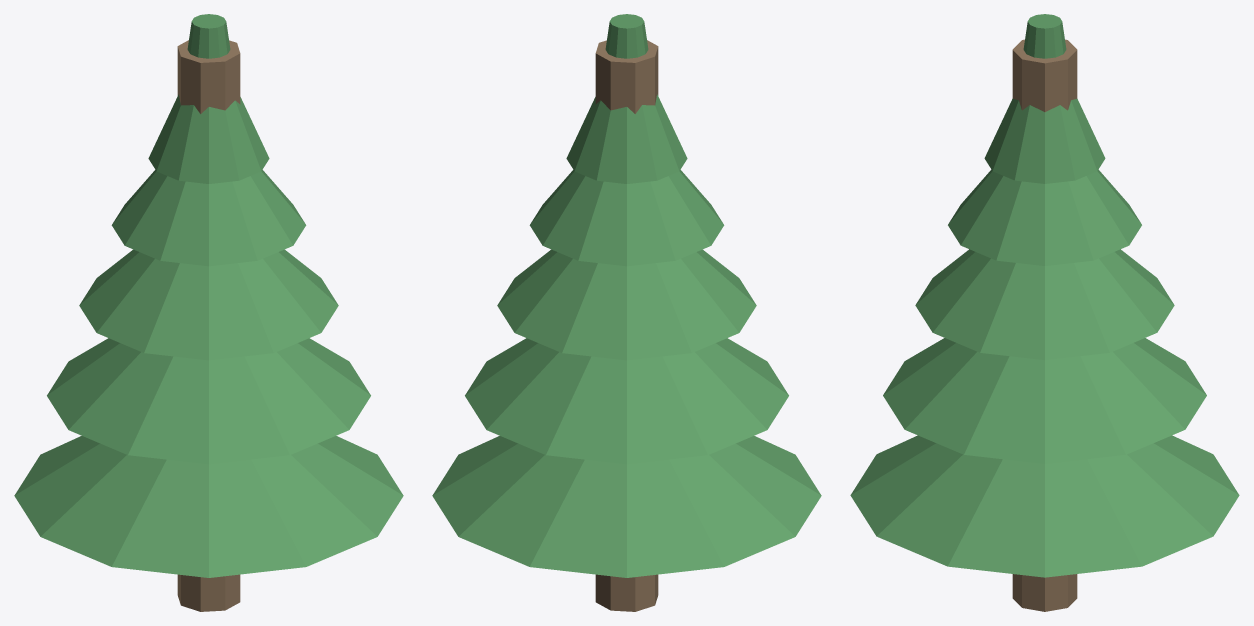
File: tree_pine.dae
3 views of the same model, side by side, from view 1: azimuth 30°, elevation 25°; view 2: azimuth 150°, elevation 25°; view 3: azimuth 270°, elevation 25° (orthographic).
Parts seen in each view (by area): view 1: Cone, Cone.001, Cone.002, Cone.003, Cone.004, Cylinder, Cone.005; view 2: Cone, Cone.001, Cone.002, Cone.003, Cone.004, Cylinder, Cone.005; view 3: Cone, Cone.001, Cone.002, Cone.003, Cone.004, Cylinder, Cone.005.
Boxes of the visible parts, left/top/right/bottom form: Cone: left=14, top=436, right=403, bottom=577; Cone.001: left=47, top=338, right=370, bottom=464; Cone.002: left=79, top=249, right=338, bottom=360; Cone.003: left=111, top=170, right=306, bottom=266; Cone.004: left=148, top=94, right=269, bottom=183; Cylinder: left=177, top=40, right=240, bottom=611; Cone.005: left=187, top=14, right=230, bottom=58; Cone: left=432, top=436, right=821, bottom=577; Cone.001: left=465, top=338, right=788, bottom=464; Cone.002: left=497, top=249, right=756, bottom=360; Cone.003: left=529, top=170, right=724, bottom=266; Cone.004: left=566, top=94, right=687, bottom=183; Cylinder: left=595, top=40, right=658, bottom=611; Cone.005: left=605, top=14, right=648, bottom=58; Cone: left=850, top=435, right=1239, bottom=577; Cone.001: left=883, top=338, right=1206, bottom=463; Cone.002: left=915, top=249, right=1174, bottom=359; Cone.003: left=948, top=169, right=1141, bottom=265; Cone.004: left=984, top=98, right=1105, bottom=183; Cylinder: left=1012, top=39, right=1077, bottom=611; Cone.005: left=1023, top=14, right=1066, bottom=58.
Size of the model in its own units: 180 by 180 by 294.
